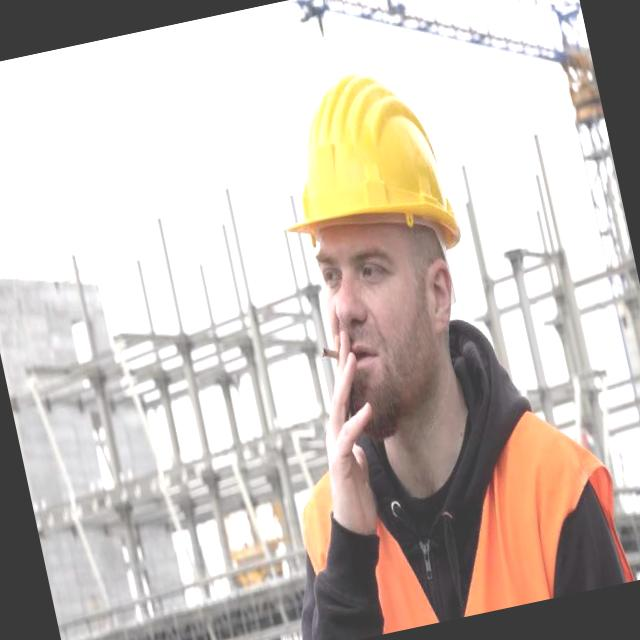smoke: (308, 327, 358, 396)
